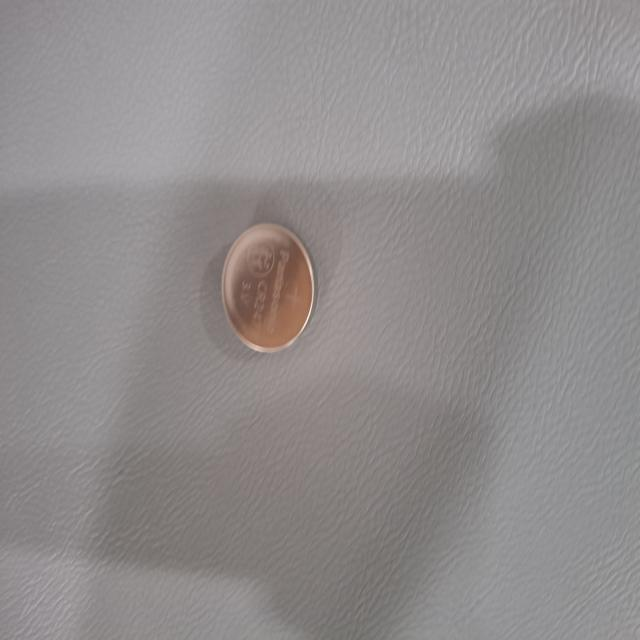COIN: (166, 430, 266, 558)
